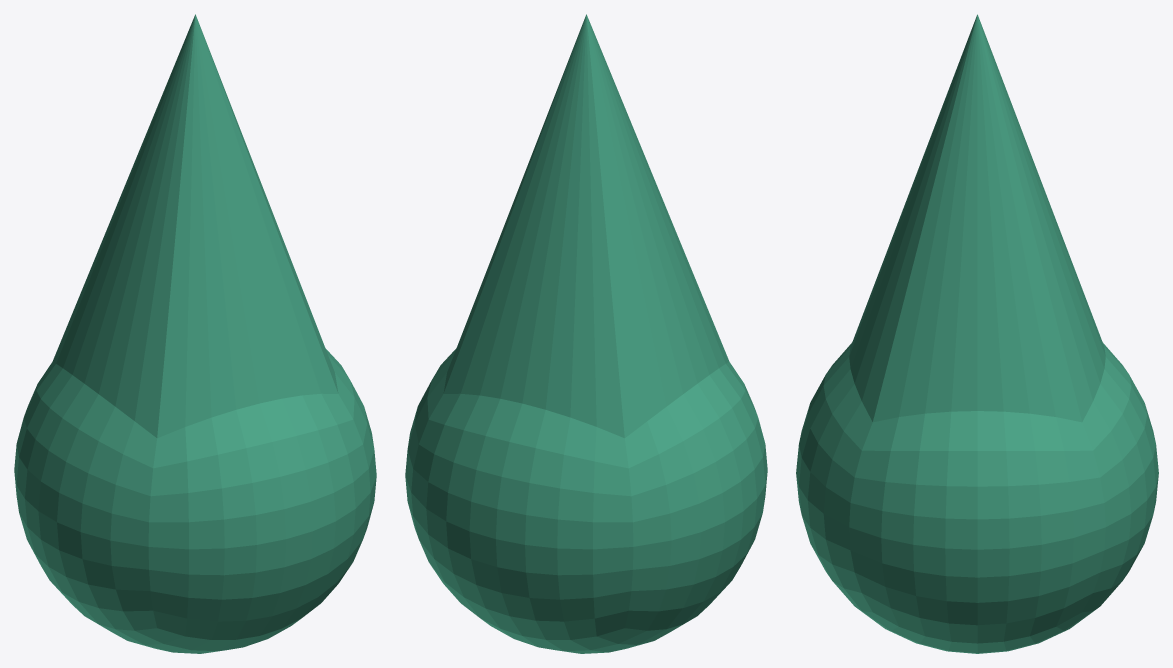
File: spike.glb
3 views of the same model, side by side, from view 1: azimuth 30°, elevation 25°; view 2: azimuth 150°, elevation 25°; view 3: azimuth 270°, elevation 25° (orthographic).
Visible parts, largest first — view 1: Roundcube; view 2: Roundcube; view 3: Roundcube.
Boxes of the visible parts, <box> form: Roundcube: <box>14,14,376,653</box>; Roundcube: <box>405,14,767,653</box>; Roundcube: <box>796,14,1158,653</box>.
Bounding box in the file's own units: 0.5 × 0.9479 × 0.5.
